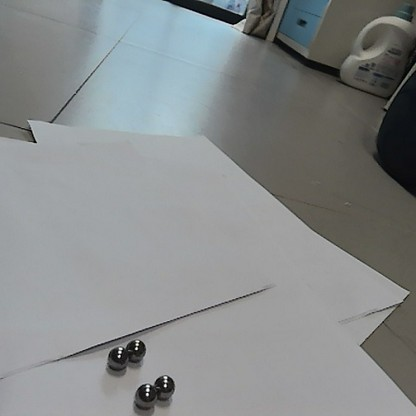ironball: (153, 374, 174, 399), (106, 345, 127, 369), (135, 381, 154, 405), (126, 340, 144, 360)
